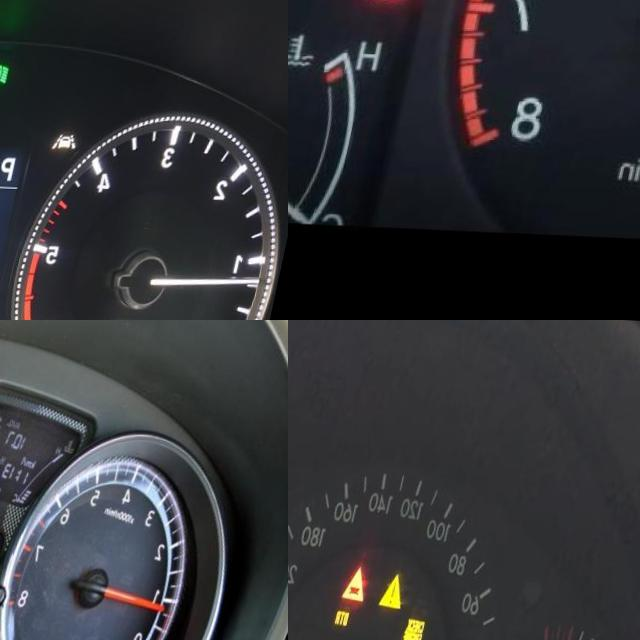Central Warning lamp: (390, 570, 420, 608)
LaneCenteringOff: (61, 128, 89, 145)
Low beam: (0, 59, 17, 82)
